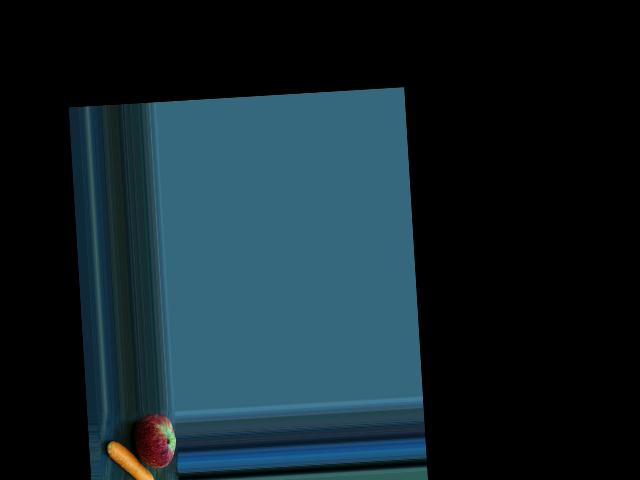carrot: (104, 432, 157, 480)
